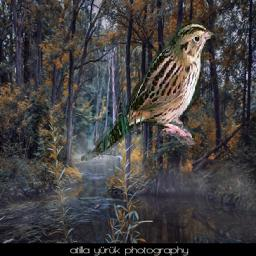Sparrow: (81, 21, 215, 162)
